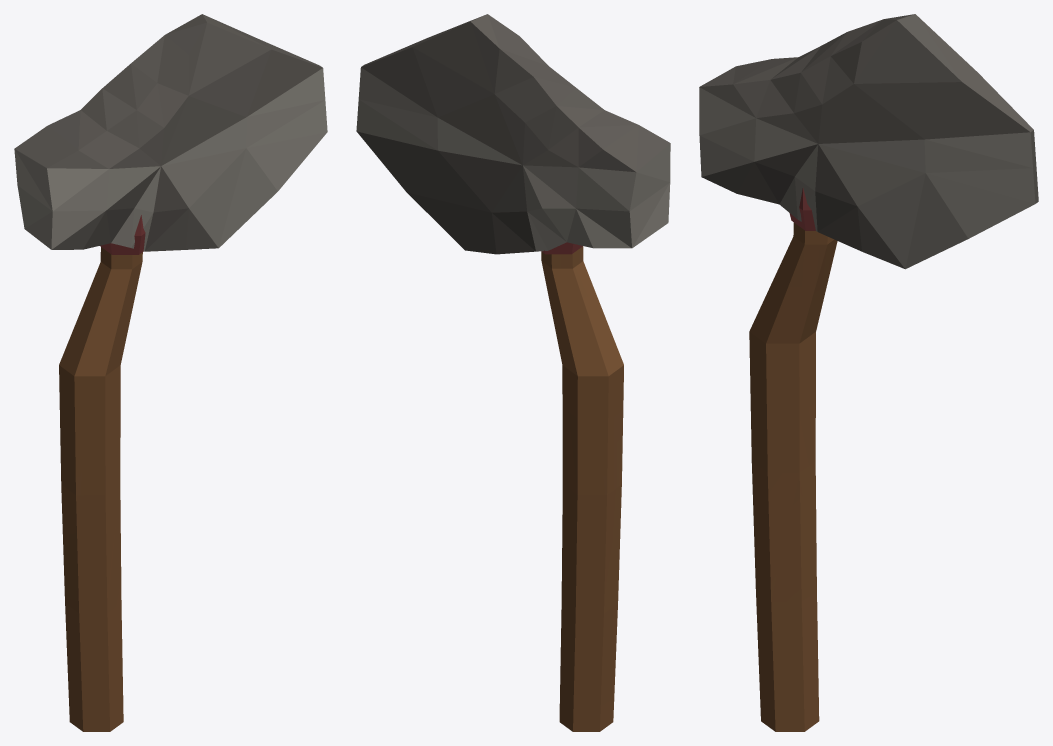
Rendered from wpn_axe_01_14d5a41.fbx.
3 renders of one model, left to right at view 1: azimuth 30°, elevation 25°; view 2: azimuth 150°, elevation 25°; view 3: azimuth 330°, elevation 25°, orthographic. The views are drawn at different scales.
Visible parts, largest first — view 1: wpn_axe_01; view 2: wpn_axe_01; view 3: wpn_axe_01.
Part boxes in pixels (x1,y1,x2,y2): wpn_axe_01: [14, 14, 327, 731]; wpn_axe_01: [356, 14, 670, 731]; wpn_axe_01: [699, 14, 1038, 731].
Bounding box in the file's own units: 0.4315 × 0.1037 × 0.9453.
